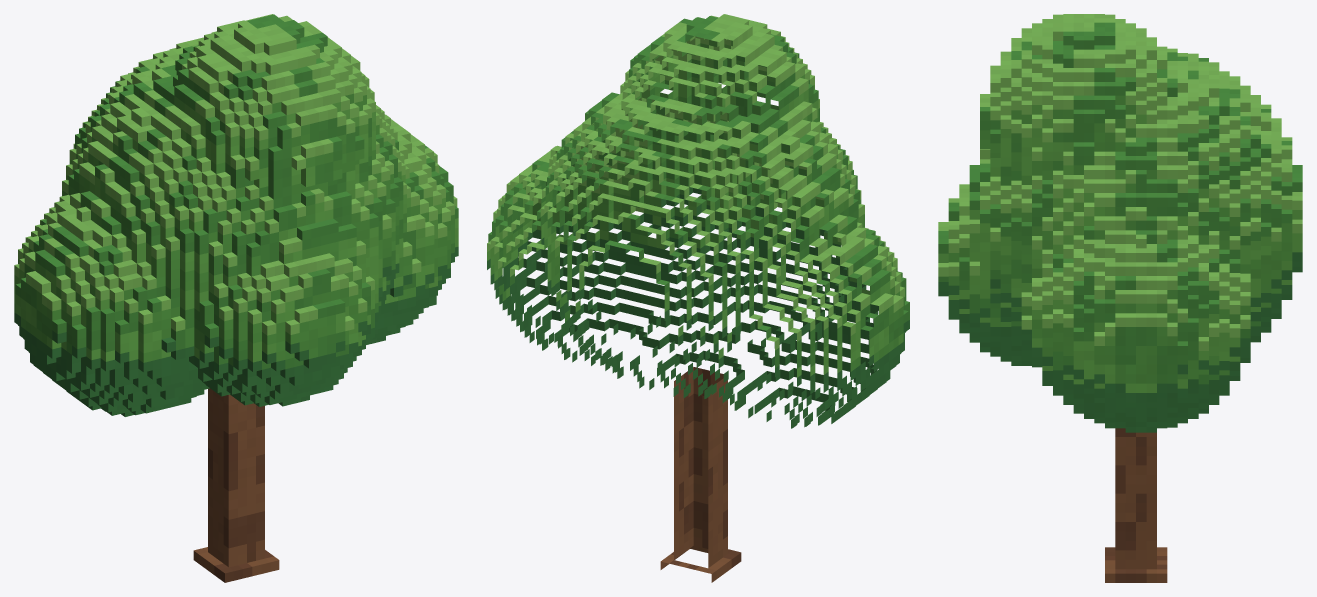
The model's file is tree_voxel_round_a.glb.
3 renders of one model, left to right at view 1: azimuth 30°, elevation 25°; view 2: azimuth 150°, elevation 25°; view 3: azimuth 270°, elevation 25°, orthographic. The views are drawn at different scales.
Visible parts, largest first — view 1: Tree.001; view 2: Tree.001; view 3: Tree.001.
Part boxes in pixels (x1=…): Tree.001: x1=14, y1=14, x2=458, y2=582; Tree.001: x1=487, y1=14, x2=909, y2=582; Tree.001: x1=938, y1=14, x2=1302, y2=582.
Size of the model in its own units: 1.76 by 2.32 by 1.4.
